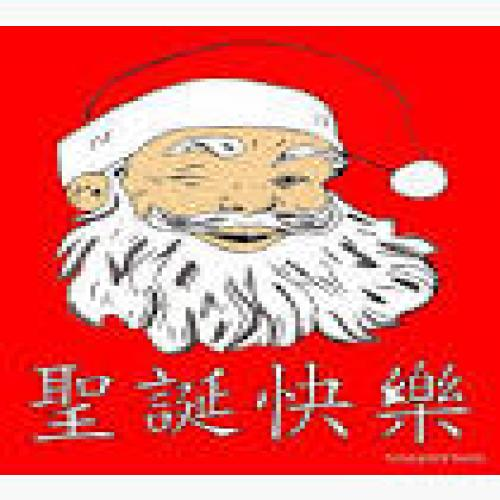Santa: (47, 34, 455, 358)
